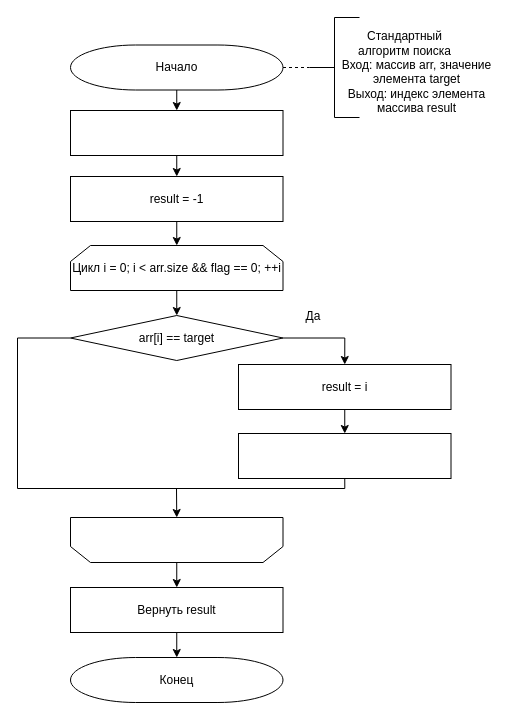
The diagram is 511 pixels wide and 720 high, and some of its shapes have lost their labels. The centre of each missing label's shape, as x and y in pixels:
"flag = 0" goes at (176,133).
"flag = 1" goes at (344,455).
"Конец цикла по i" goes at (176,539).
